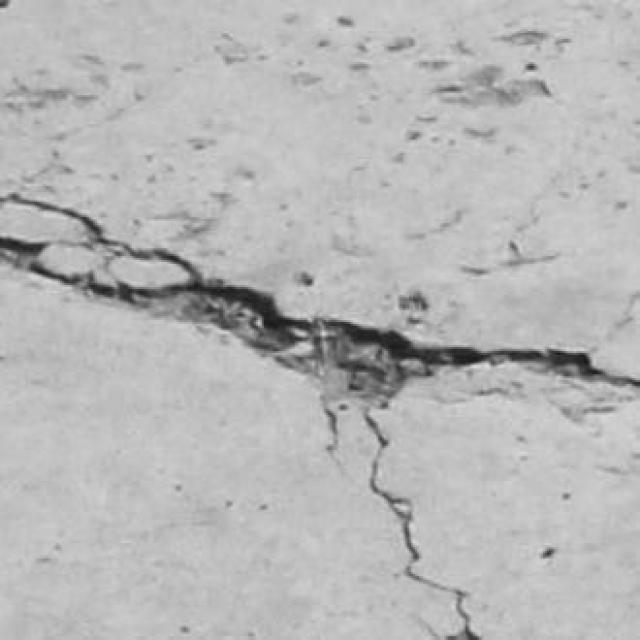crack: (0, 194, 639, 639), (0, 194, 639, 401), (363, 410, 480, 639)
